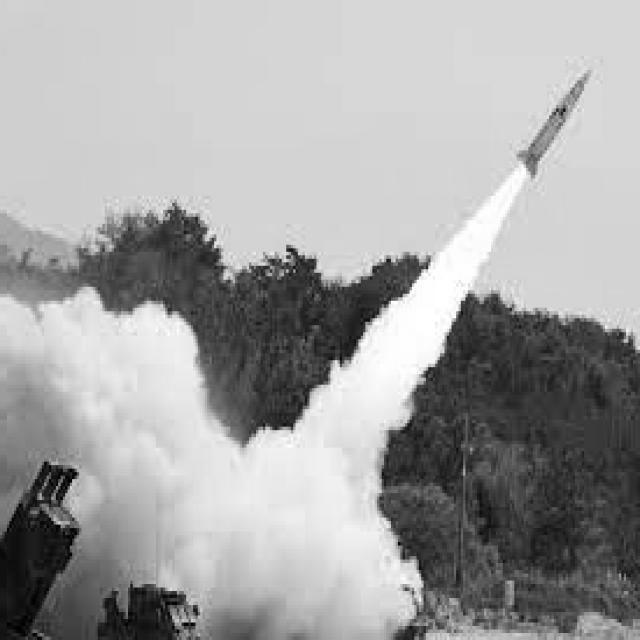missile: (508, 56, 605, 185)
